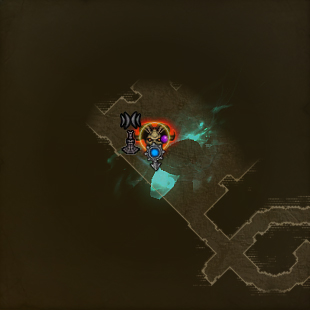Guardian: (130, 123, 178, 156)
